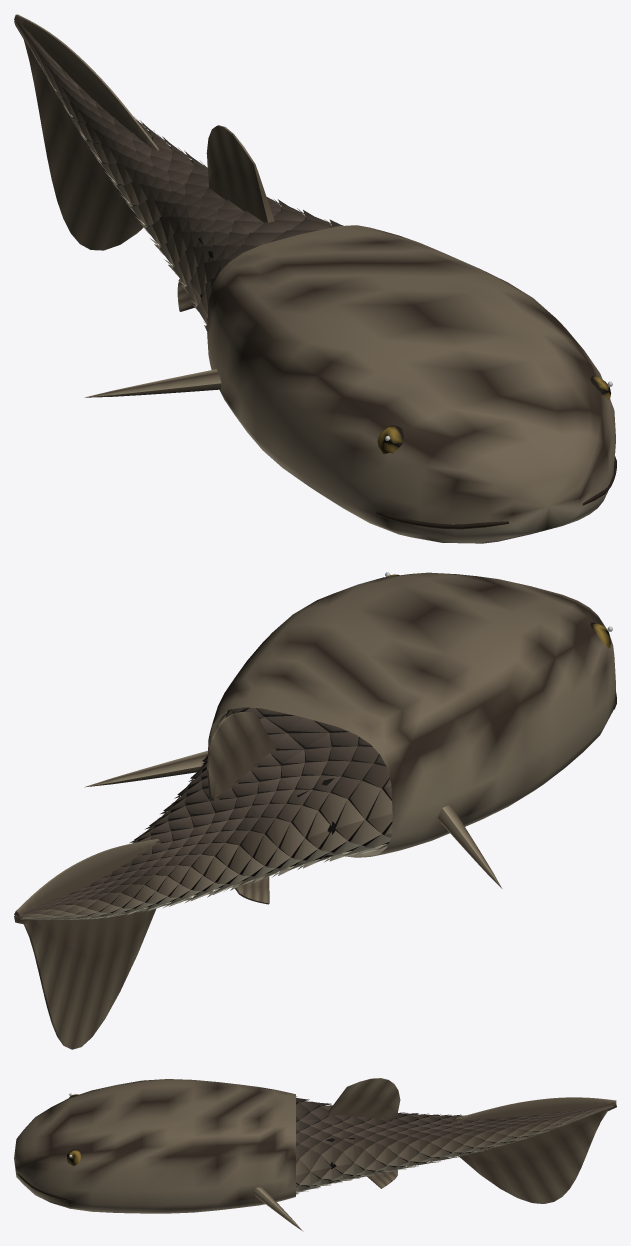
File: XiushanosteusMirabilis.fbx
The picture shows the model from 3 angles, top to bottom: view 1: azimuth 30°, elevation 25°; view 2: azimuth 150°, elevation 25°; view 3: azimuth 270°, elevation 25°; orthographic projection. The views are drawn at different scales.
Parts seen in each view (by area): view 1: XiushanosteusMirabilis; view 2: XiushanosteusMirabilis; view 3: XiushanosteusMirabilis.
Part boxes in pixels (box(x1,y1,x2,y2)): XiushanosteusMirabilis: box(14, 14, 616, 543); XiushanosteusMirabilis: box(14, 572, 616, 1049); XiushanosteusMirabilis: box(14, 1078, 616, 1231).
Bounding box in the file's own units: 0.7189 × 0.3637 × 1.58.
